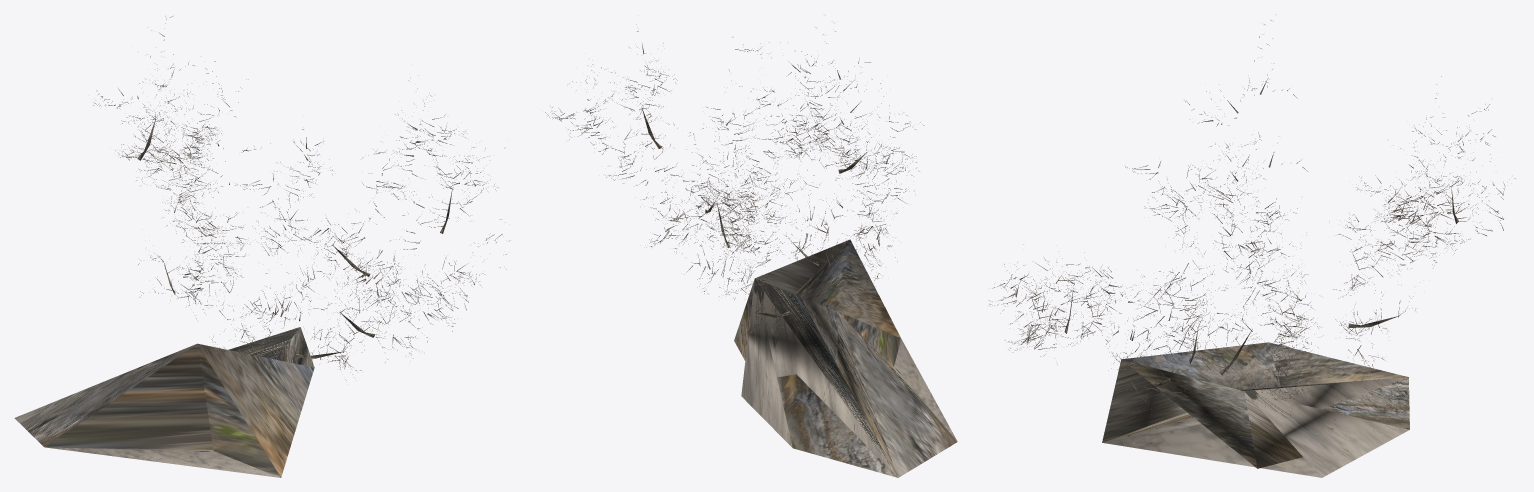
File: island_tree_03_bare.glb
3 renders of one model, left to right at view 1: azimuth 30°, elevation 25°; view 2: azimuth 150°, elevation 25°; view 3: azimuth 270°, elevation 25°, orthographic. The views are drawn at different scales.
Parts seen in each view (by area): view 1: island_tree_03_bare; view 2: island_tree_03_bare; view 3: island_tree_03_bare.
Boxes of the visible parts, box(x1,y1,x2,y2) form: island_tree_03_bare: box(14, 16, 509, 477); island_tree_03_bare: box(545, 15, 957, 477); island_tree_03_bare: box(989, 14, 1515, 477).
Size of the model in its own units: 2.89 by 2.55 by 2.83.
2 materials, 2 textured.
